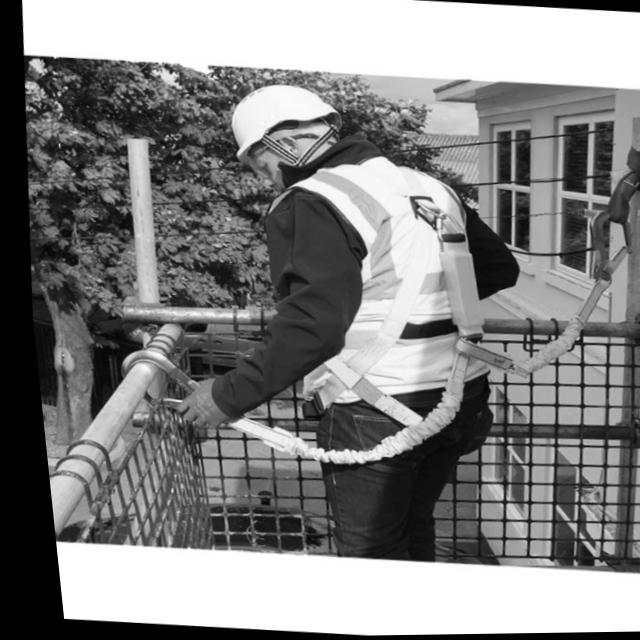belt: (69, 156, 640, 510)
